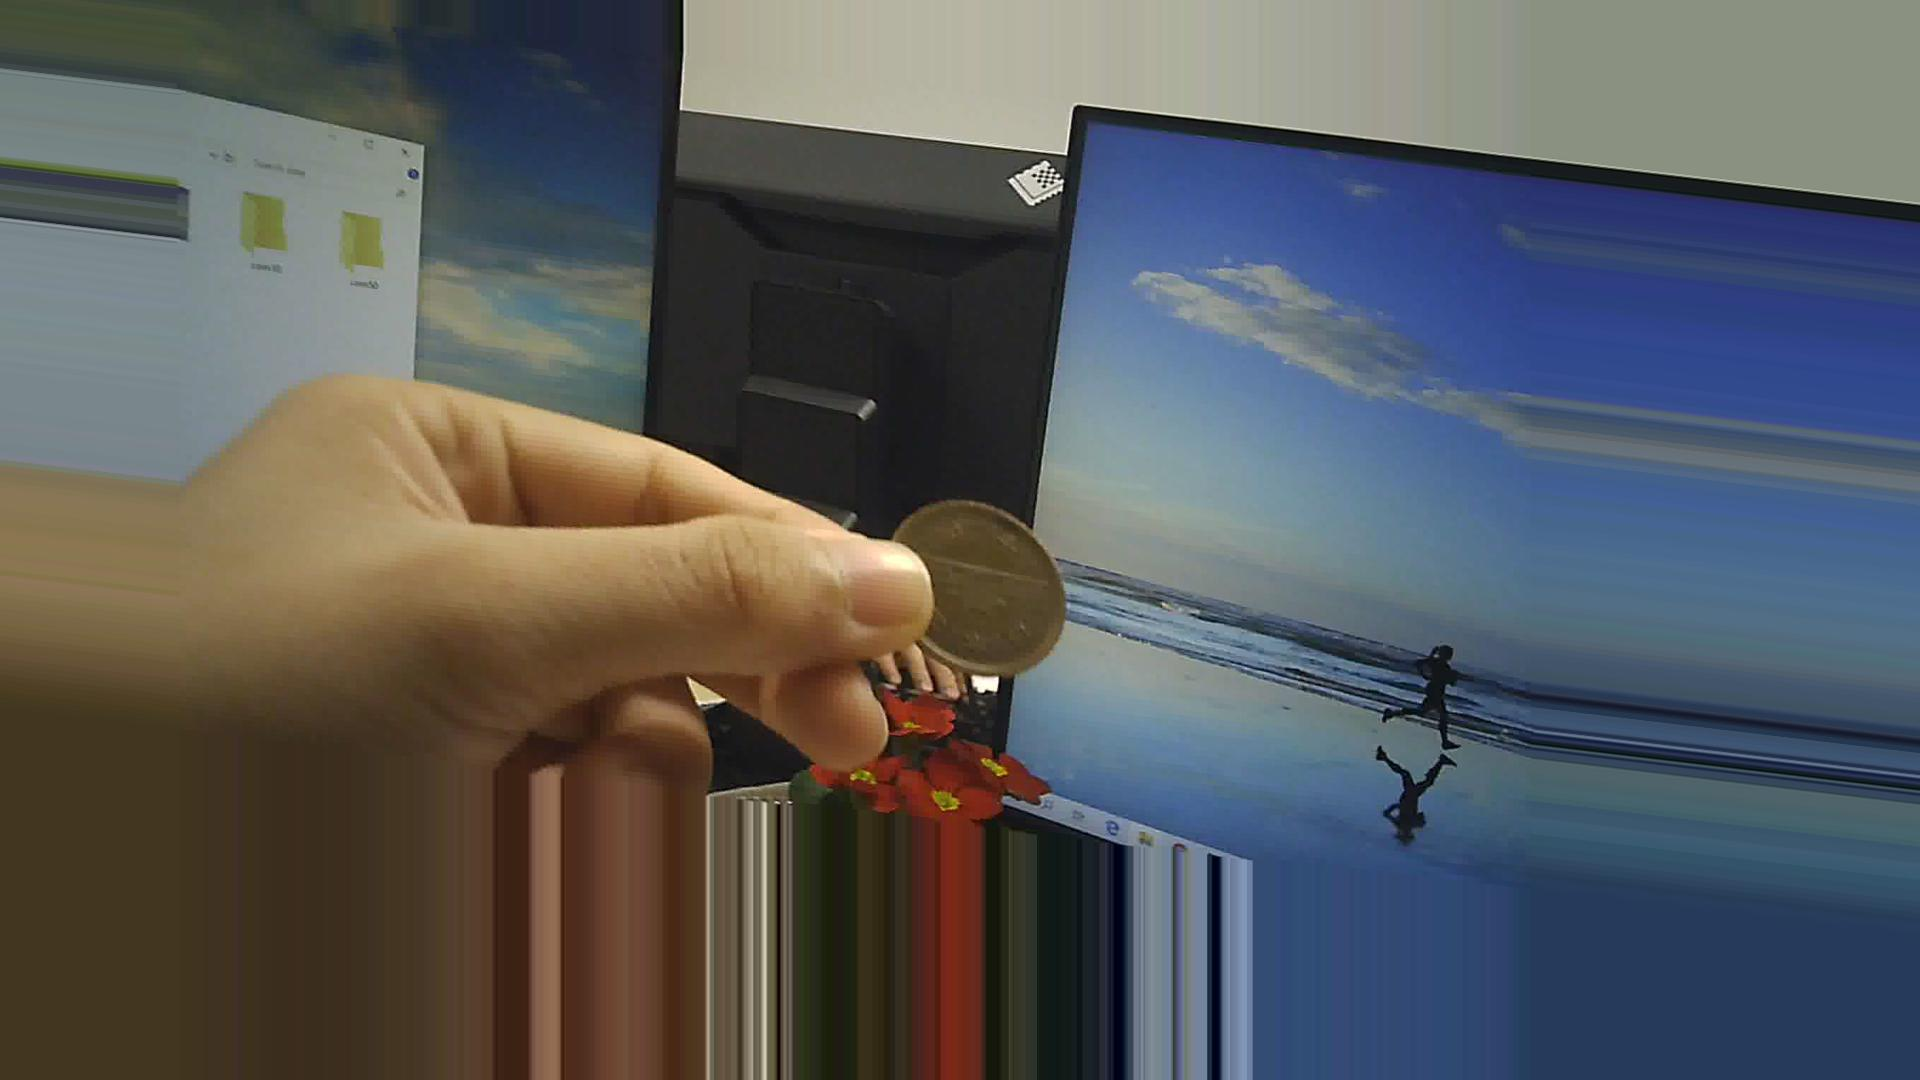10 Yen: (873, 495, 1085, 682)
